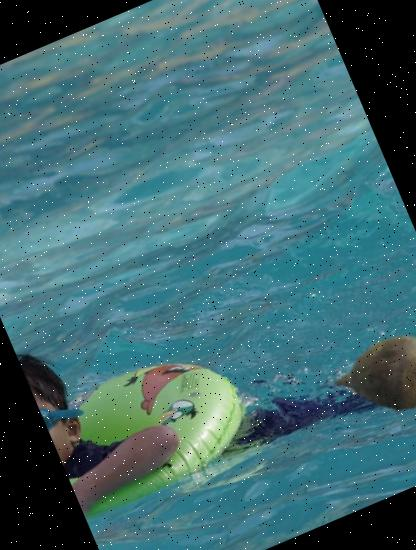Beetroot: (311, 291, 416, 458)
